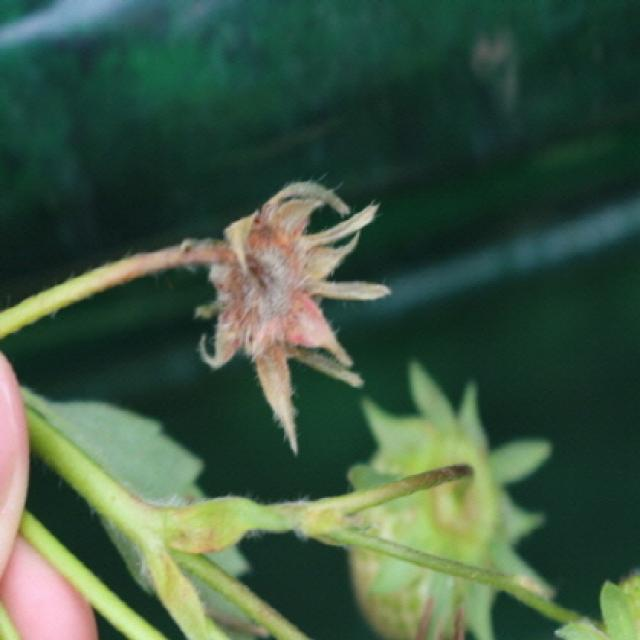Gray Mold: (178, 180, 392, 460)
